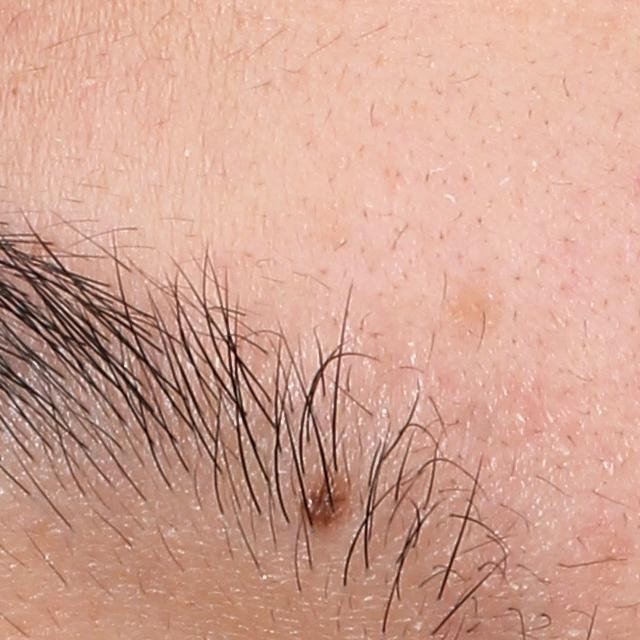nevus: (296, 466, 350, 533)
